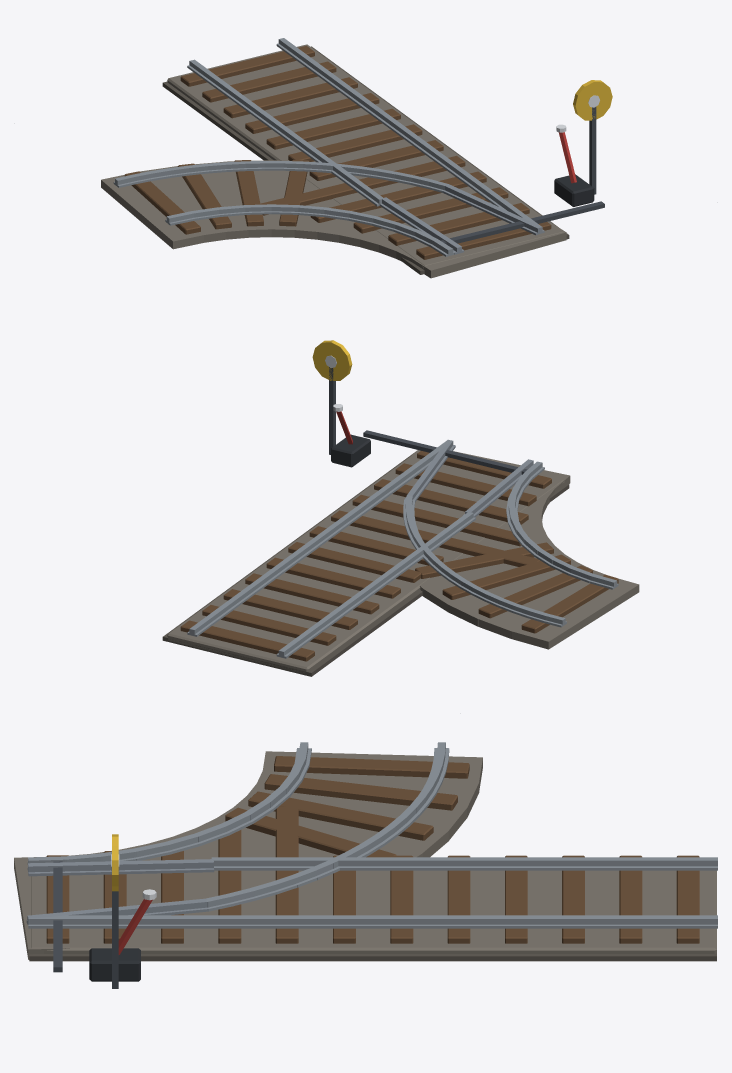
Rendered from rail_aiguillage_g_devie.glb.
The picture shows the model from 3 angles, top to bottom: view 1: azimuth 30°, elevation 25°; view 2: azimuth 150°, elevation 25°; view 3: azimuth 270°, elevation 25°; orthographic projection. The views are drawn at different scales.
Visible parts, largest first — view 1: rail_ballast.016, rail_traverse.018, rail_rail.018, rail_acier.008, rail_acier_sombre.008, rail_ballast_sombre.010, rail_jaune.004, rail_fonte.008; view 2: rail_ballast.016, rail_traverse.018, rail_rail.018, rail_ballast_sombre.010, rail_acier_sombre.008, rail_acier.008, rail_jaune.004, rail_fonte.008; view 3: rail_ballast.016, rail_traverse.018, rail_rail.018, rail_ballast_sombre.010, rail_acier.008, rail_acier_sombre.008, rail_fonte.008, rail_rouge.008.
Boxes of the visible parts, <box> form: rail_ballast.016: <box>101,44,566,278</box>; rail_traverse.018: <box>124,45,551,259</box>; rail_rail.018: <box>113,38,544,256</box>; rail_acier.008: <box>379,184,543,254</box>; rail_acier_sombre.008: <box>441,107,604,244</box>; rail_ballast_sombre.010: <box>162,46,569,274</box>; rail_jaune.004: <box>573,80,612,120</box>; rail_fonte.008: <box>554,174,594,206</box>; rail_ballast.016: <box>167,450,639,673</box>; rail_traverse.018: <box>180,451,618,661</box>; rail_rail.018: <box>187,439,618,658</box>; rail_ballast_sombre.010: <box>162,450,569,676</box>; rail_acier_sombre.008: <box>329,367,527,474</box>; rail_acier.008: <box>404,440,533,517</box>; rail_jaune.004: <box>312,340,352,380</box>; rail_fonte.008: <box>331,434,370,467</box>; rail_ballast.016: <box>14,751,716,959</box>; rail_traverse.018: <box>46,756,699,943</box>; rail_rail.018: <box>27,742,717,928</box>; rail_ballast_sombre.010: <box>29,953,716,961</box>; rail_acier.008: <box>26,859,214,928</box>; rail_acier_sombre.008: <box>53,861,118,988</box>; rail_fonte.008: <box>89,948,140,981</box>; rail_rouge.008: <box>118,899,152,954</box>.
Size of the model in its own units: 3.07 by 0.777 by 3.07.
